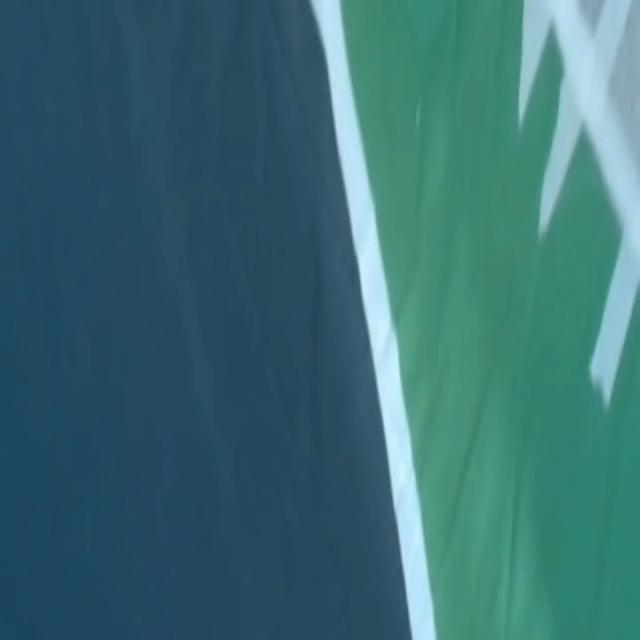right: (311, 0, 435, 639)
